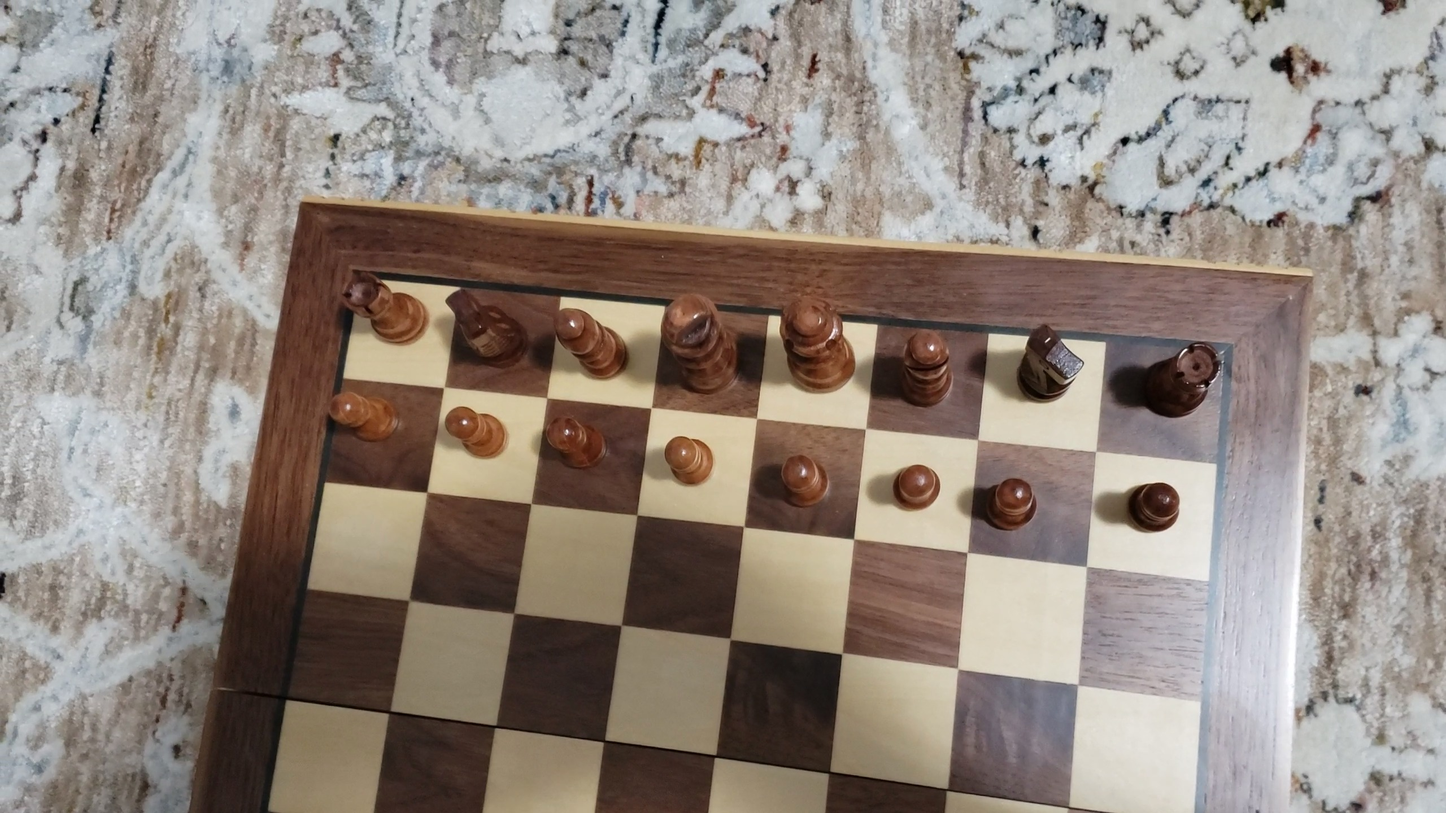black-bishop: (552, 305, 629, 381), (899, 326, 954, 407)
black-king: (660, 287, 740, 395)
black-knight: (443, 285, 532, 370), (1014, 320, 1084, 403)
black-pawn: (327, 388, 397, 443), (442, 404, 507, 460), (982, 474, 1040, 534), (544, 414, 606, 470), (1125, 479, 1183, 535), (779, 449, 830, 510), (662, 432, 715, 488), (890, 461, 943, 513)
black-queen: (776, 289, 859, 394)
black-rook: (1140, 339, 1221, 419), (342, 269, 426, 344)
